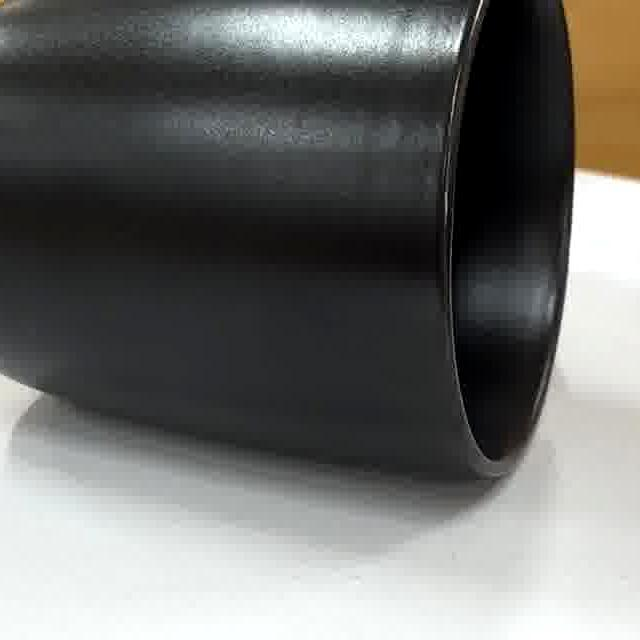cup: (0, 0, 575, 485)
